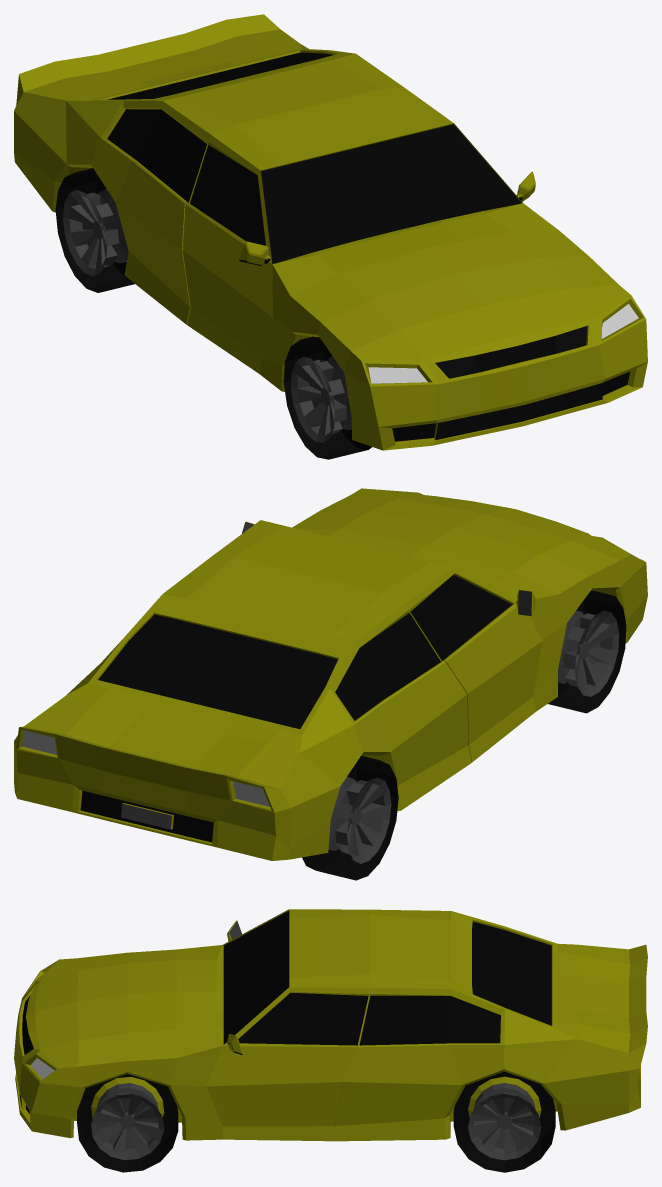
Rendered from car_1_yellow.obj.
3 views of the same model, one above another, from view 1: azimuth 30°, elevation 25°; view 2: azimuth 150°, elevation 25°; view 3: azimuth 270°, elevation 25° (orthographic). The views are drawn at different scales.
Visible parts, largest first — view 1: Cube; view 2: Cube; view 3: Cube.
Part boxes in pixels (box(x1,y1,x2,y2)): Cube: box(14, 14, 647, 459); Cube: box(14, 488, 647, 880); Cube: box(14, 909, 647, 1172).
Bounding box in the file's own units: 1.63 × 1.1 × 3.68.
